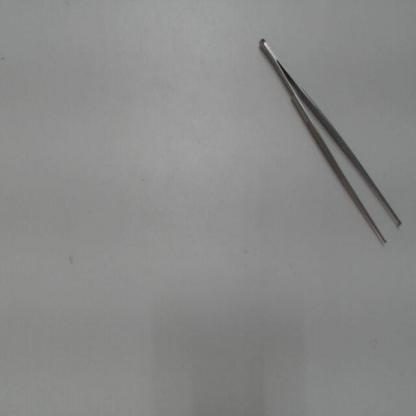Gillies Toothed Dissector: (251, 21, 408, 251)
